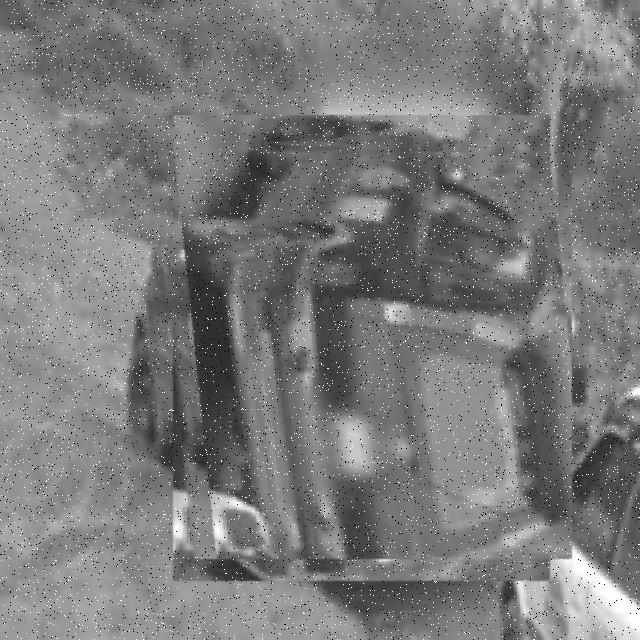car: (151, 138, 573, 560)
